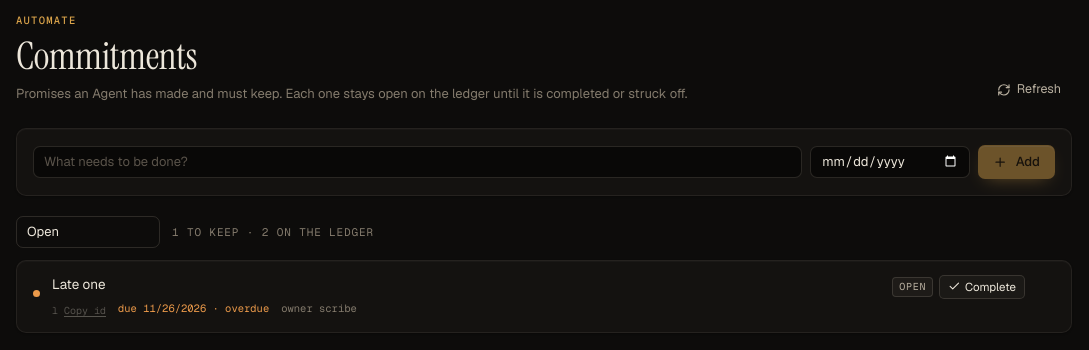
Test: Commitments ledger › counts the open and total commitments and filters to completed
Expected: the text "Late one" is shown, [52, 275, 106, 293]
Expected: the text "1 to keep · 2 on the ledger" is shown, [172, 224, 374, 240]
Select "Completed" in the dropdown at (88, 232), box [16, 216, 160, 248]
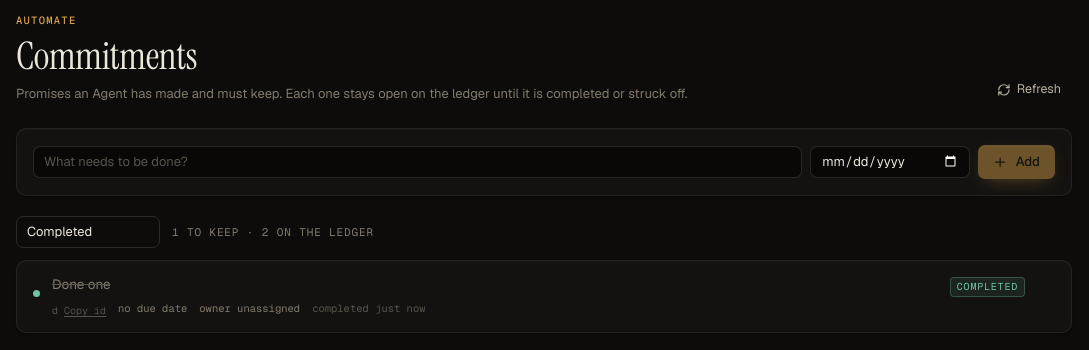
Now the text "Late one" is gone
Now the text "Done one" is shown, box [52, 275, 111, 293]
